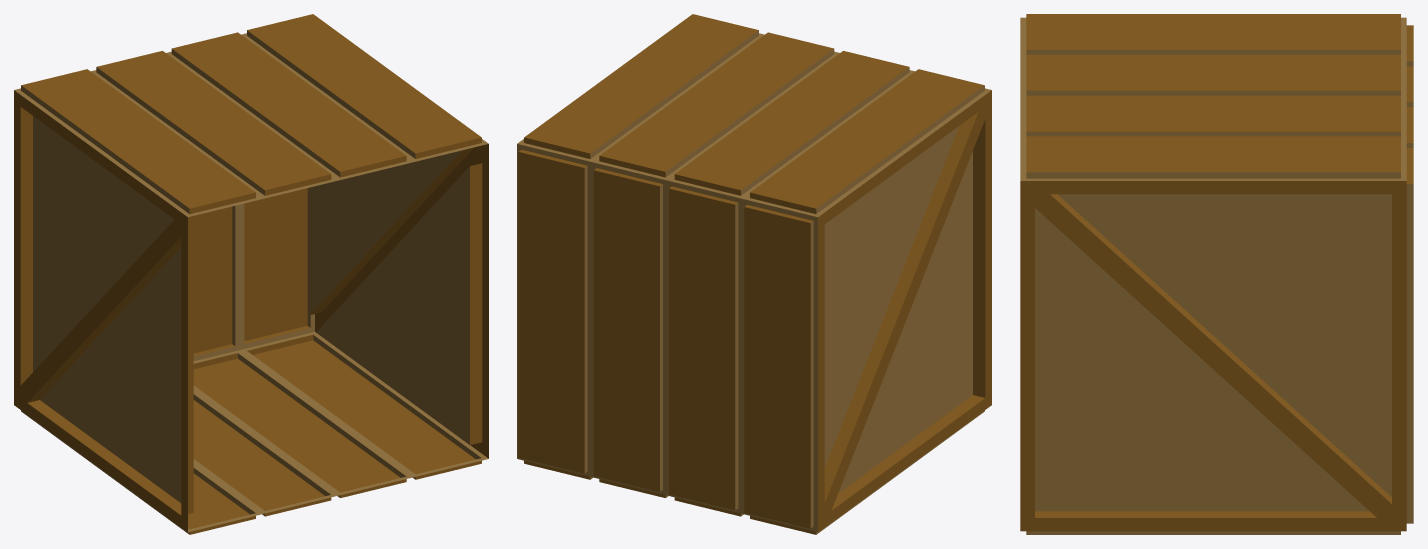
Rendered from Crate.fbx.
The picture shows the model from 3 angles, left to right: view 1: azimuth 30°, elevation 25°; view 2: azimuth 150°, elevation 25°; view 3: azimuth 270°, elevation 25°; orthographic projection. The views are drawn at different scales.
Visible parts, largest first — view 1: Cube; view 2: Cube; view 3: Cube.
Part boxes in pixels (<box>): Cube: <box>14,14,488,534</box>; Cube: <box>517,14,991,534</box>; Cube: <box>1020,14,1413,534</box>.
Bounding box in the file's own units: 260 × 269 × 265.
